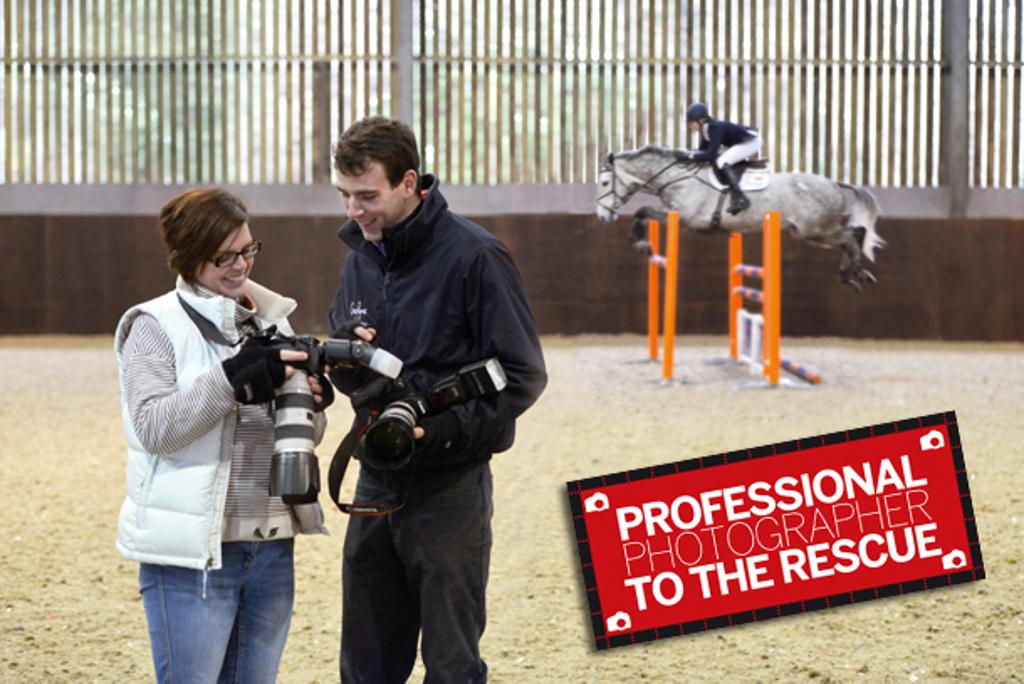face: (332, 162, 402, 244), (196, 216, 258, 290)
